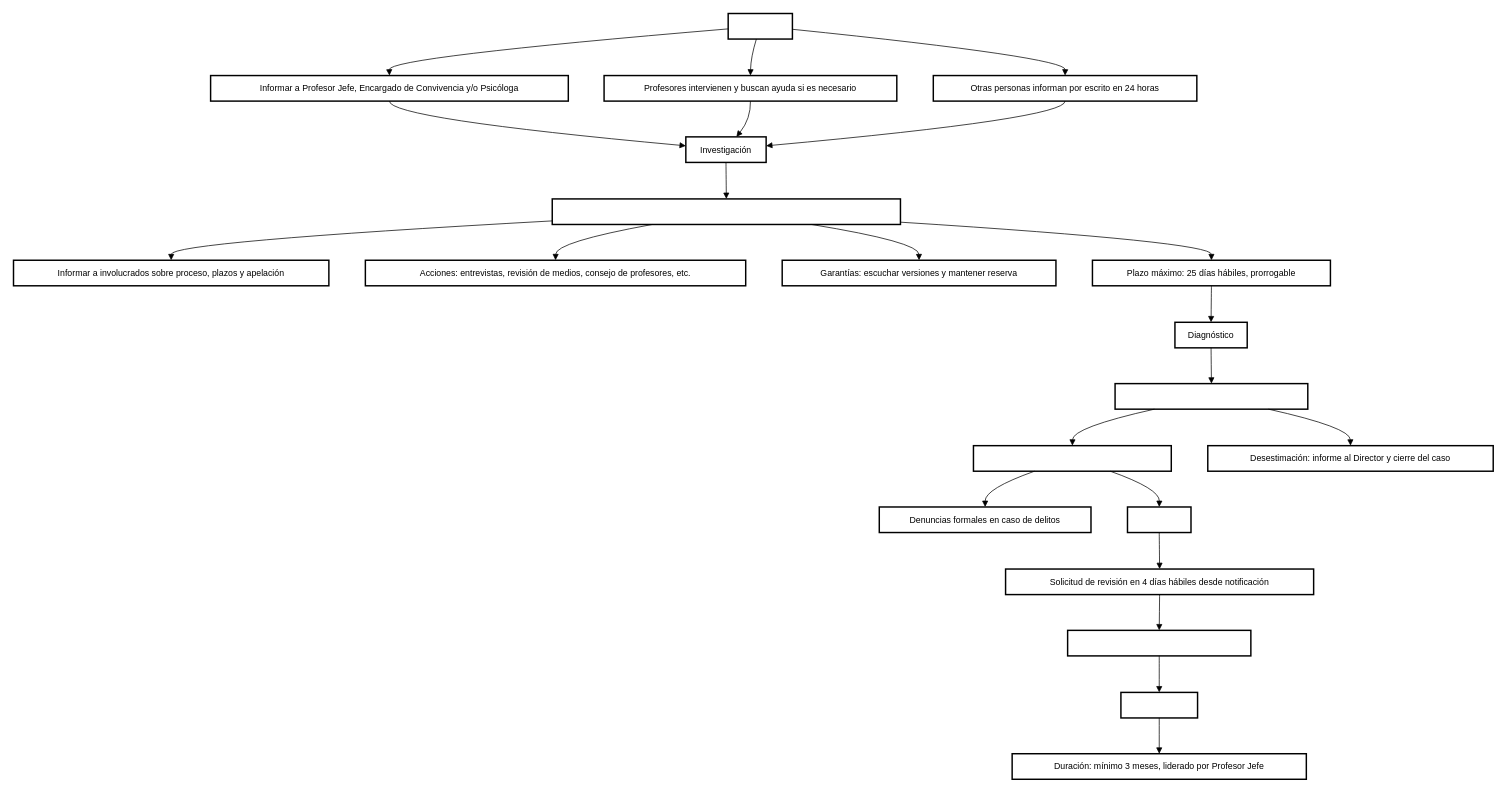
This 1506x792 diagram has some shape labels left out. The box of each missing label's shape, as (x1, y1, x2, y2) in pixels:
Acciones según Reglamento Interno: (972, 445, 1172, 472)
Activación en 48 horas, liderada por Profesor Jefe y/o Psicóloga: (551, 198, 901, 225)
Análisis por Comisión de Disciplina: (1114, 383, 1308, 410)
Apelación: (1126, 506, 1191, 533)
Detección: (727, 12, 793, 39)
Respuesta en 15 días, inapelable: (1067, 629, 1251, 656)
Seguimiento: (1120, 691, 1198, 718)
